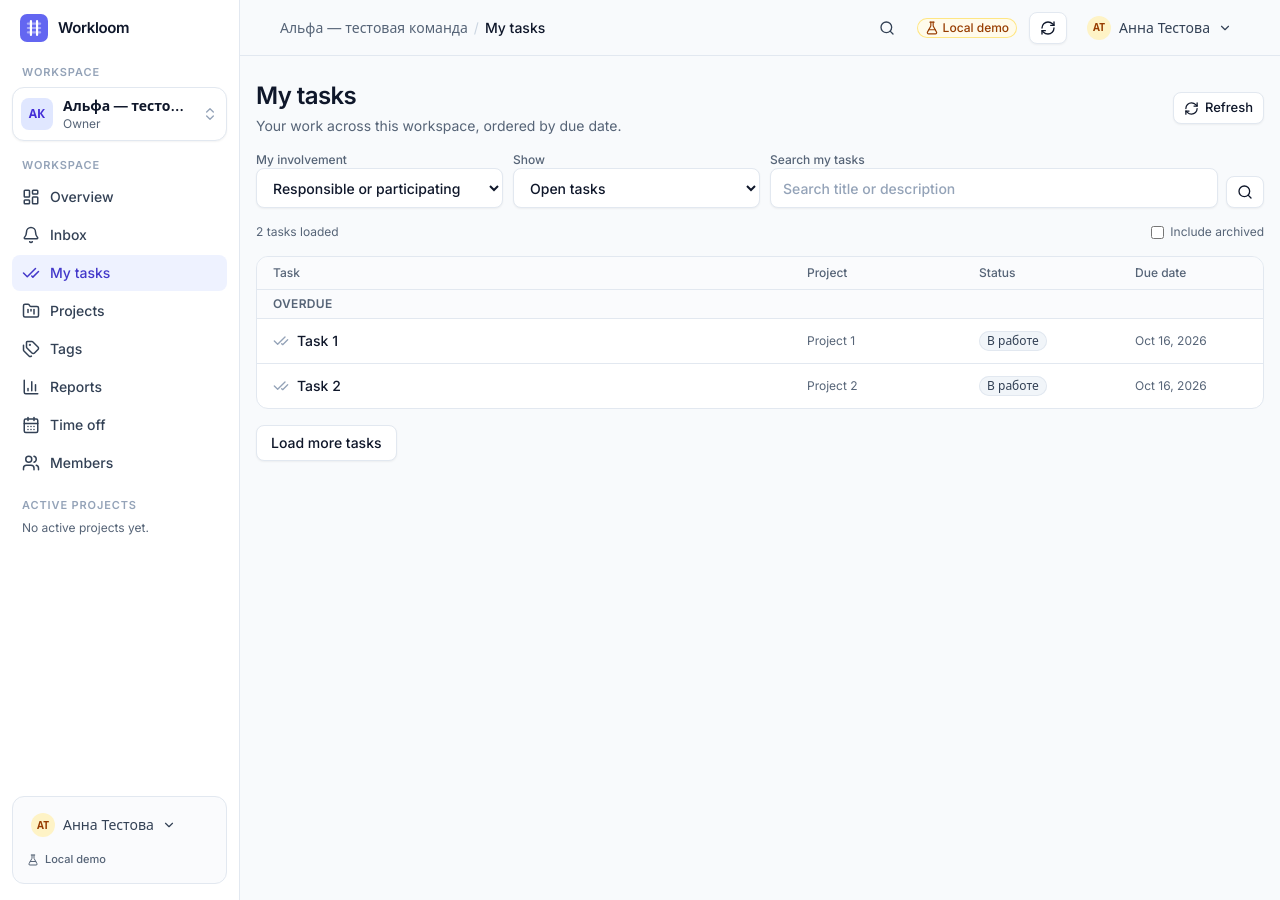
Test: personal task inbox › deduplicates overlapping live pages and never presents loaded rows as an authoritative total
Click the button "Load more tasks" at [326, 443], box [256, 425, 396, 461]
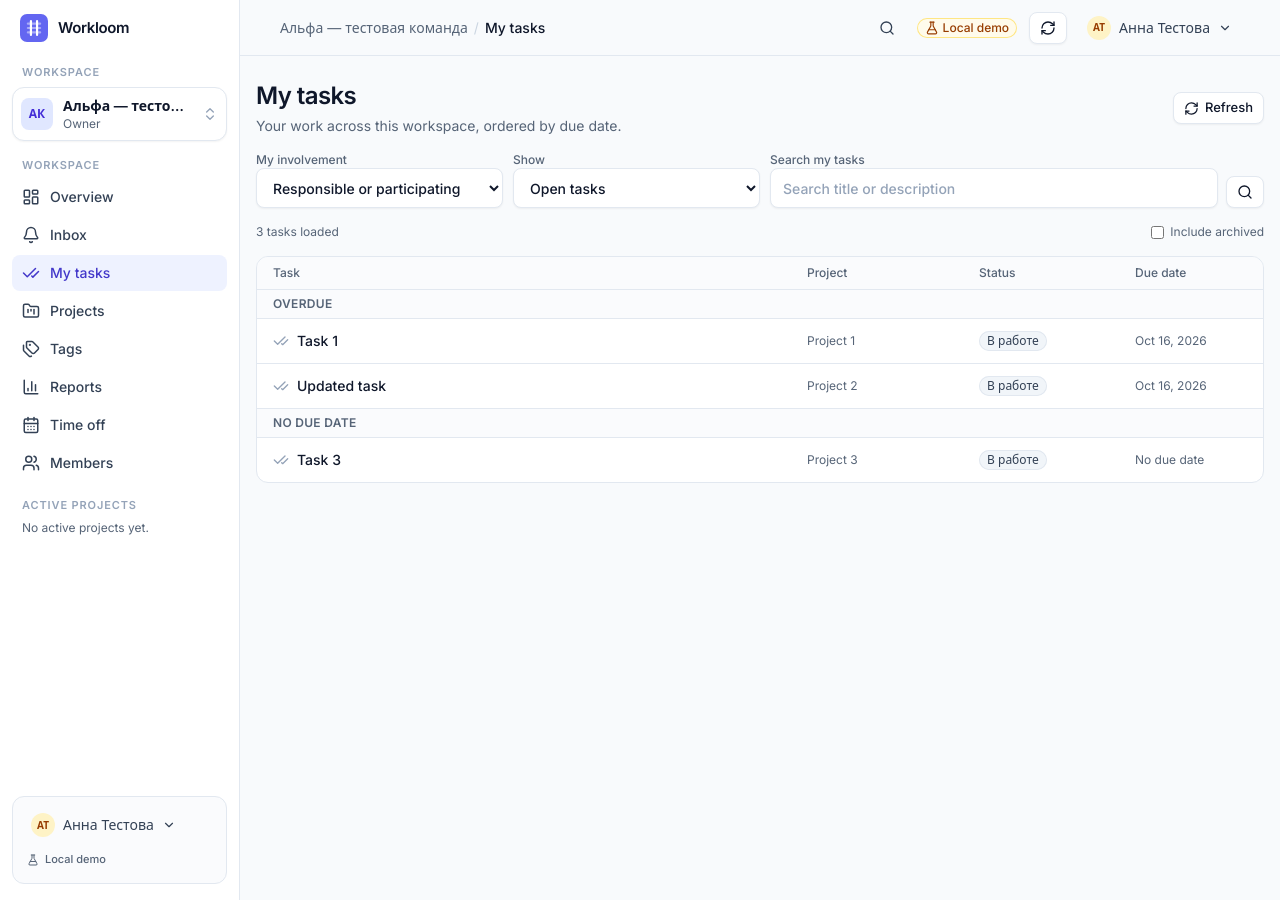
Check: the link with aria-label "Open task “Updated task”" is shown, box [273, 376, 1207, 396]
Check: the message reads "3 tasks loaded", box [256, 224, 339, 239]
Check: the list item "No due date" is shown, box [257, 409, 1263, 438]
